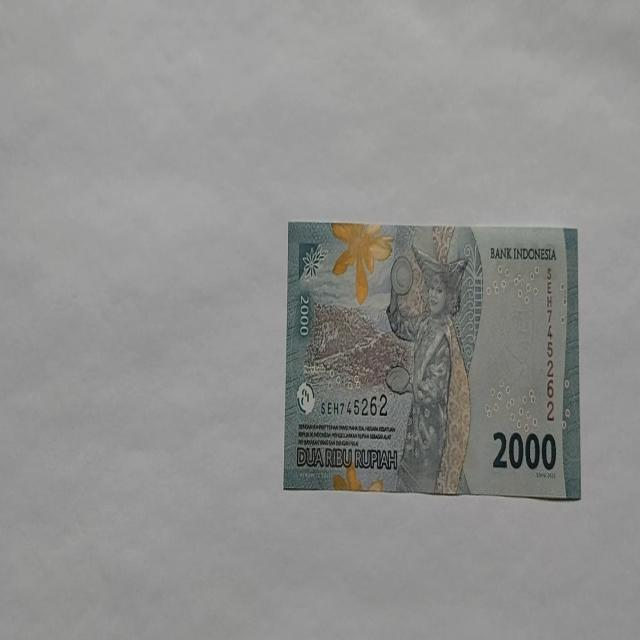dua ribu rupiah: (284, 222, 580, 499), (384, 245, 472, 494), (330, 220, 394, 306)
